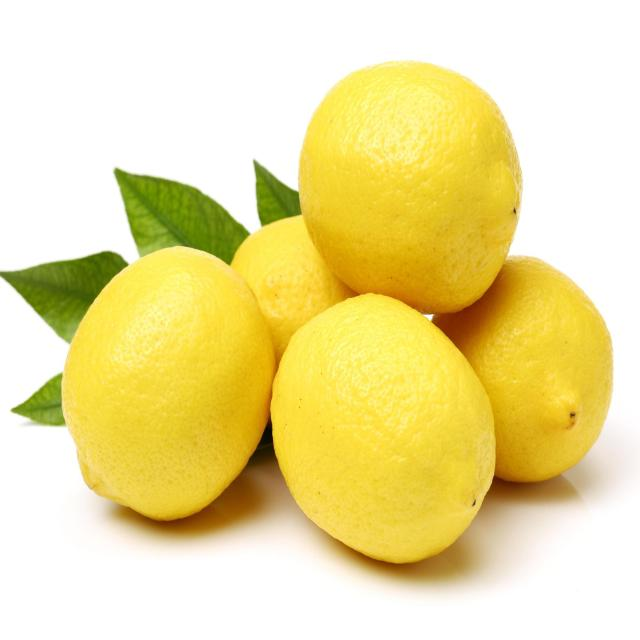lemon: (260, 285, 501, 568), (54, 243, 281, 532), (295, 54, 527, 312)
